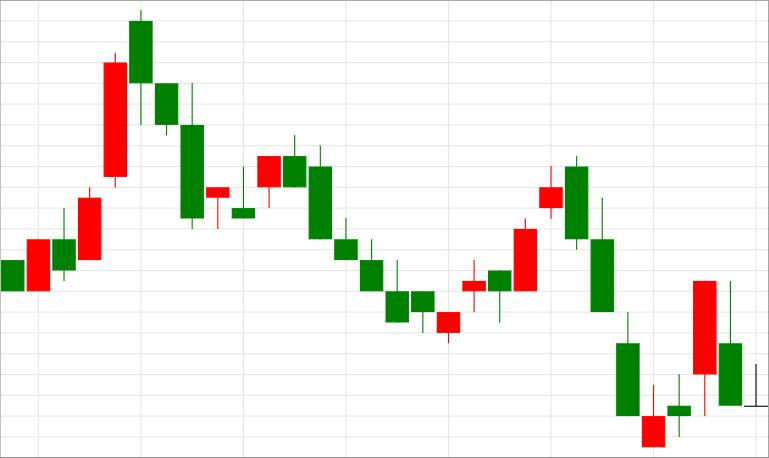bearish_engulfing_fall: (437, 157, 588, 343)
three_black_crows_fall: (437, 157, 639, 415), (27, 9, 203, 292)
